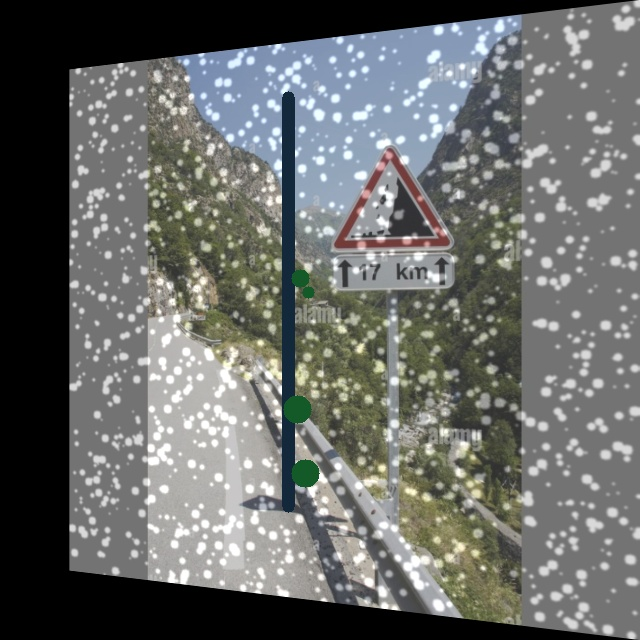Falling_Rocks: (334, 140, 449, 251)
